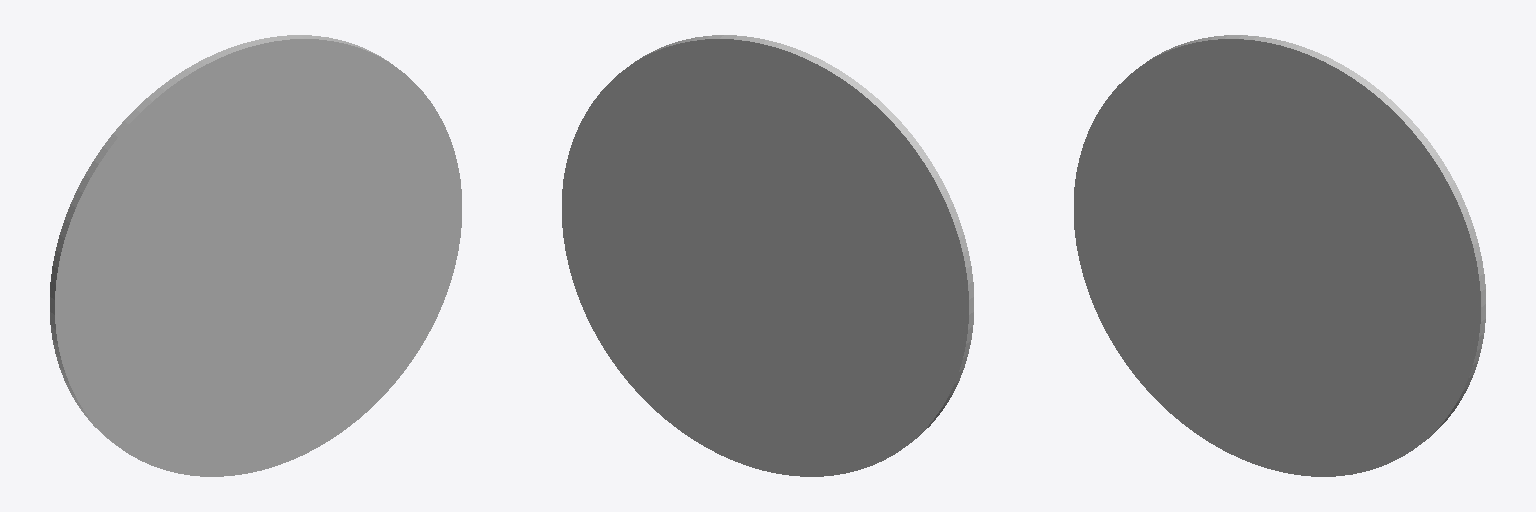
Rendered from calendario_azteca.obj.
The picture shows the model from 3 angles: view 1: azimuth 30°, elevation 25°; view 2: azimuth 150°, elevation 25°; view 3: azimuth 330°, elevation 25°; orthographic projection.
Visible parts, largest first — view 1: Cylinder_Material.001; view 2: Cylinder_Material.001; view 3: Cylinder_Material.001.
Part boxes in pixels (x1,y1,x2,y2): Cylinder_Material.001: (50, 35, 461, 476); Cylinder_Material.001: (562, 35, 973, 476); Cylinder_Material.001: (1074, 35, 1485, 476).
Bounding box in the file's own units: 22.05 × 22.06 × 0.5.